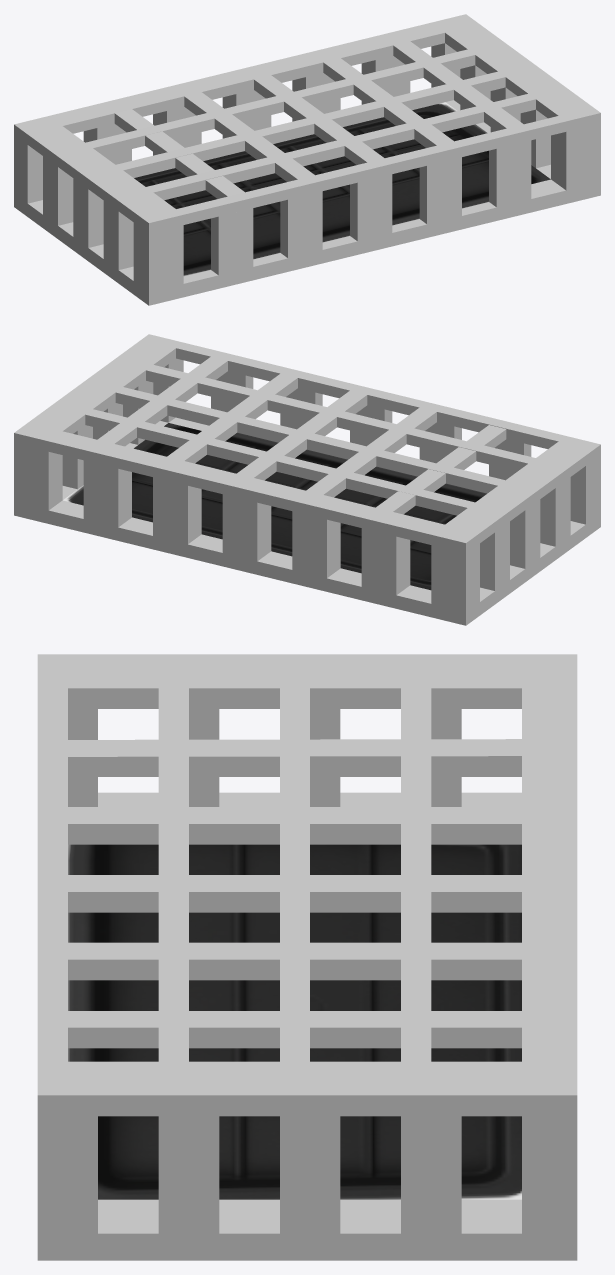
File: kasa.fbx
The picture shows the model from 3 angles, top to bottom: view 1: azimuth 30°, elevation 25°; view 2: azimuth 150°, elevation 25°; view 3: azimuth 270°, elevation 25°; orthographic projection. The views are drawn at different scales.
Parts seen in each view (by area): view 1: 立方体; view 2: 立方体; view 3: 立方体.
Part boxes in pixels (<box>): 立方体: <box>14,14,600,305</box>; 立方体: <box>14,334,600,625</box>; 立方体: <box>37,654,577,1260</box>.
Size of the model in its own units: 686 by 120 by 355.
Materials: 2 (1 with a texture image).
